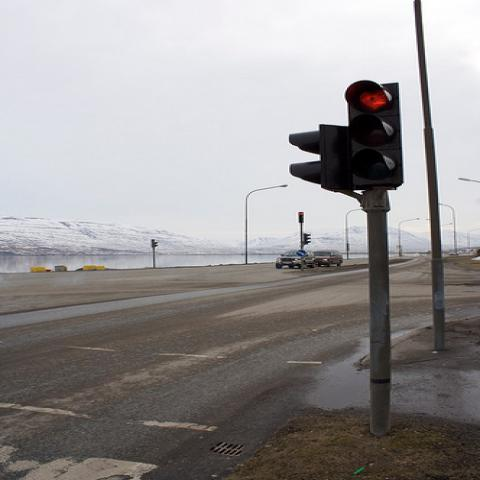car: (275, 248, 319, 269), (316, 249, 346, 268), (449, 253, 459, 255)
